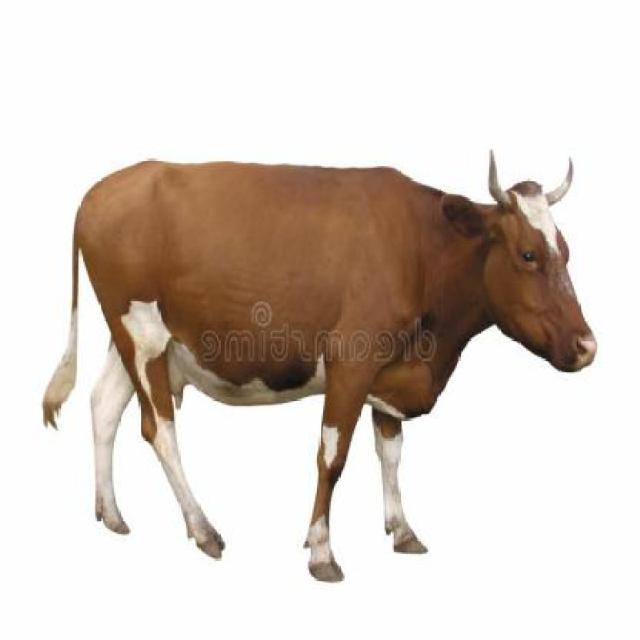Cow: (43, 153, 599, 582)
